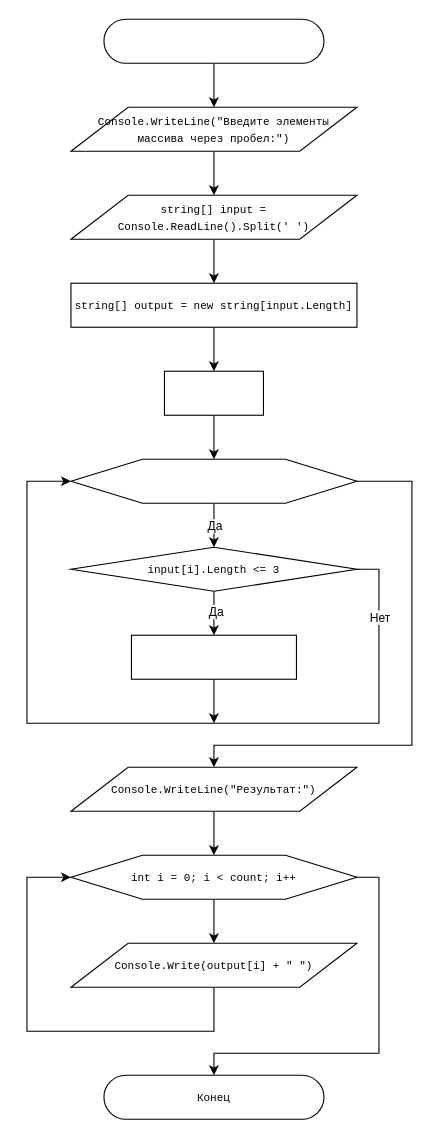
The diagram is 440 pixels wide and 1139 high, and some of its shapes have lost their labels. The centre of each missing label's shape, as x and y in pixels:
for (int i = 0; i < input.Length; i++): point 213,480
int count = 0: point 213,392
output[count] = input[i] count++: point 213,656
Начало: point 213,40
